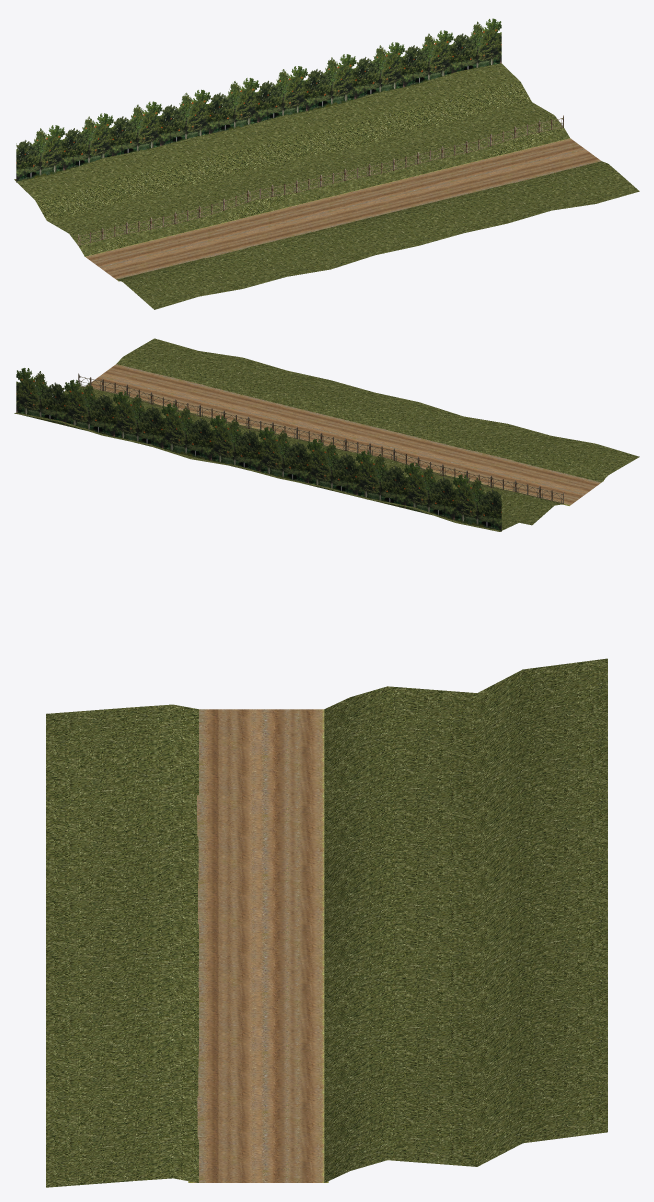
File: terr_acres.FBX
3 renders of one model, top to bottom at view 1: azimuth 30°, elevation 25°; view 2: azimuth 150°, elevation 25°; view 3: azimuth 270°, elevation 25°, orthographic. The views are drawn at different scales.
Parts seen in each view (by area): view 1: grass01, grass, road, forBorder02, forBorder05, forBorder01, forBorder03, forBorder04, fence; view 2: grass, road, grass01, forBorder02, forBorder05, forBorder01, forBorder03, forBorder04, fence; view 3: grass01, grass, road.
Part boxes in pixels (x1,y1,x2,y2): grass01: (14, 63, 569, 256); grass: (117, 161, 639, 309); road: (84, 138, 601, 281); forBorder02: (307, 42, 404, 111); forBorder05: (16, 113, 113, 182); forBorder01: (210, 66, 307, 133); forBorder03: (404, 18, 501, 86); forBorder04: (113, 89, 210, 155); fence: (78, 115, 563, 245); grass: (116, 338, 639, 482); road: (88, 364, 603, 505); grass01: (14, 386, 567, 531); forBorder02: (113, 391, 210, 460); forBorder05: (404, 462, 501, 531); forBorder01: (210, 415, 307, 484); forBorder03: (16, 368, 113, 436); forBorder04: (307, 439, 404, 508); fence: (78, 373, 563, 503); grass01: (324, 658, 607, 1182); grass: (46, 704, 198, 1187); road: (188, 709, 328, 1182).
Bounding box in the file's own units: 200 × 31.05 × 100.
Materials: 4 (4 with a texture image).
